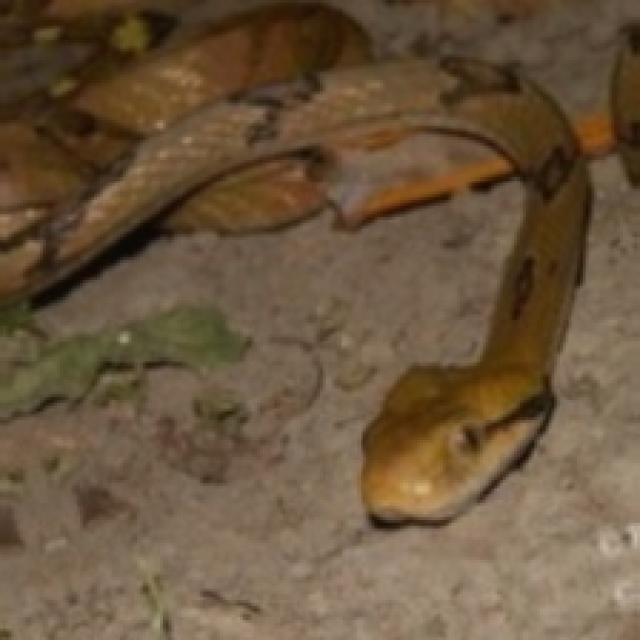dog-toothed cat snake: (1, 4, 590, 522)
